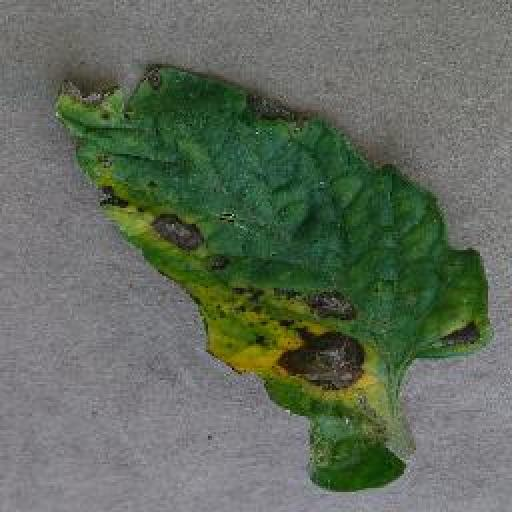disease_tomato: (61, 58, 492, 494)
